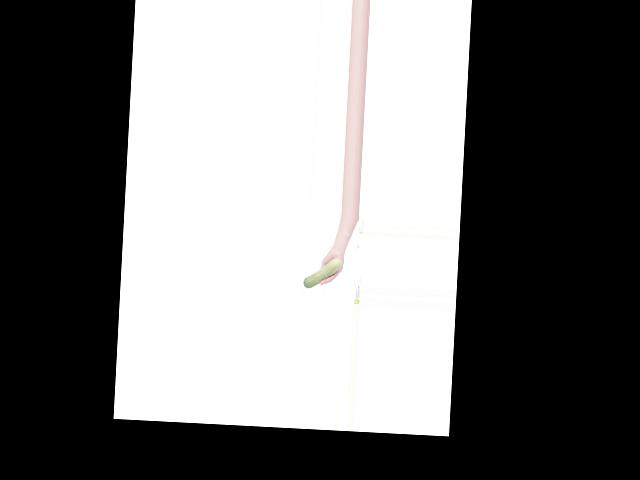cucumber: (303, 256, 342, 289)
